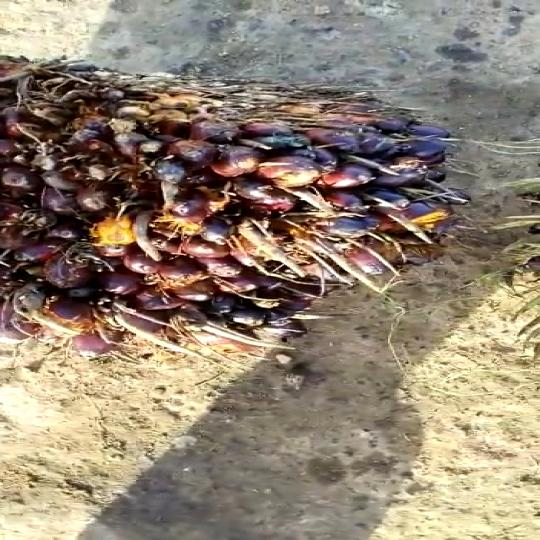masak: (0, 39, 467, 368)
